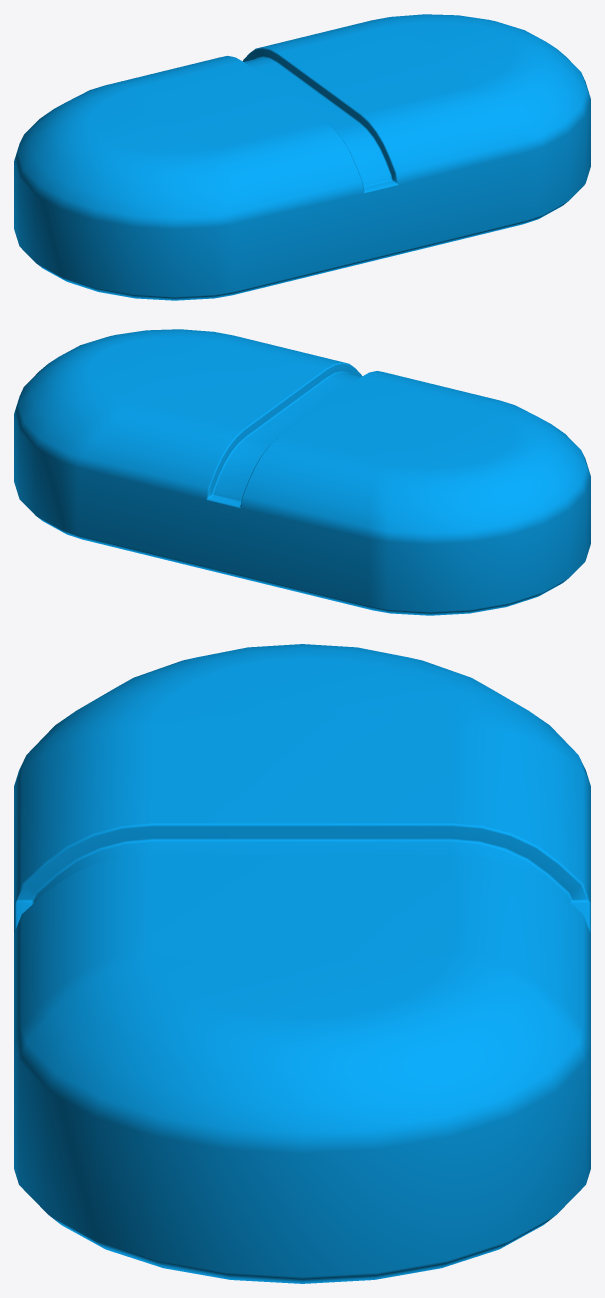
Rendered from Public_3_Pill_6.glb.
The picture shows the model from 3 angles, top to bottom: view 1: azimuth 30°, elevation 25°; view 2: azimuth 150°, elevation 25°; view 3: azimuth 270°, elevation 25°; orthographic projection. The views are drawn at different scales.
Visible parts, largest first — view 1: Public_3_Pill_6; view 2: Public_3_Pill_6; view 3: Public_3_Pill_6.
Boxes of the visible parts, x1,y1,x2,y2 form: Public_3_Pill_6: (14,14,590,300); Public_3_Pill_6: (14,329,590,615); Public_3_Pill_6: (14,644,590,1283).
Bounding box in the file's own units: 1.44 × 0.3027 × 0.7397.
1 material, 1 textured.
